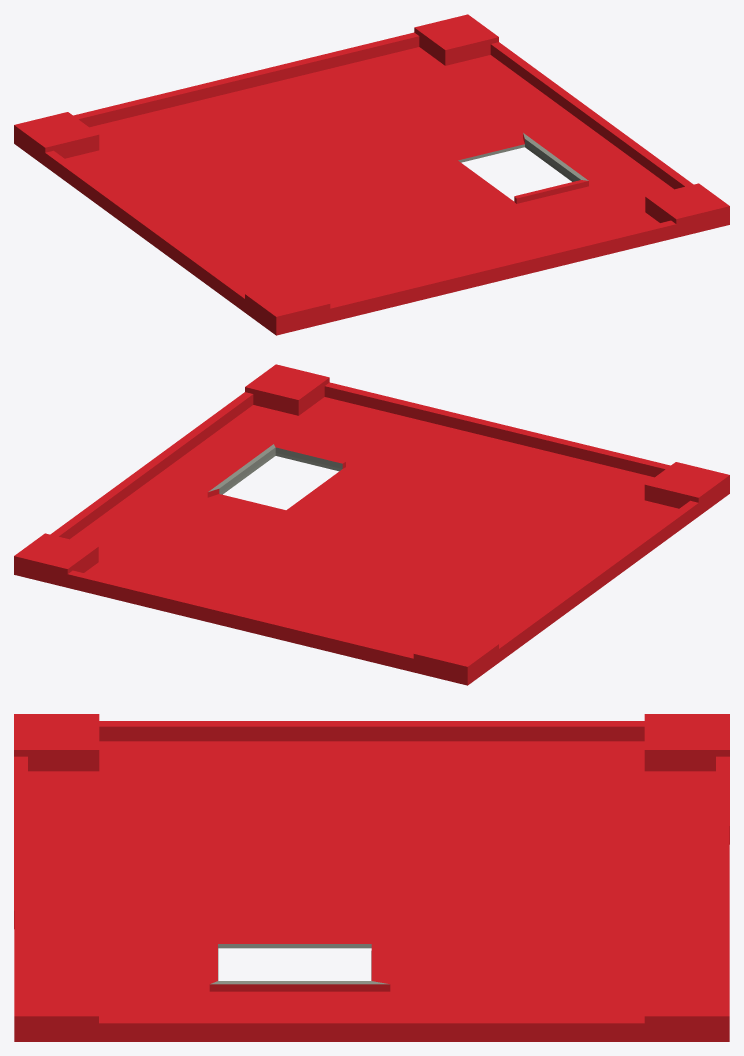
File: Top cover for parking lot.glb
3 renders of one model, top to bottom at view 1: azimuth 30°, elevation 25°; view 2: azimuth 150°, elevation 25°; view 3: azimuth 270°, elevation 25°, orthographic. The views are drawn at different scales.
Visible parts, largest first — view 1: Top Cover; view 2: Top Cover; view 3: Top Cover.
Part boxes in pixels (x1,y1,x2,y2): Top Cover: [14, 14, 729, 335]; Top Cover: [14, 364, 729, 685]; Top Cover: [14, 714, 729, 1041].
Size of the model in its own units: 64.76 by 2.55 by 64.81.
